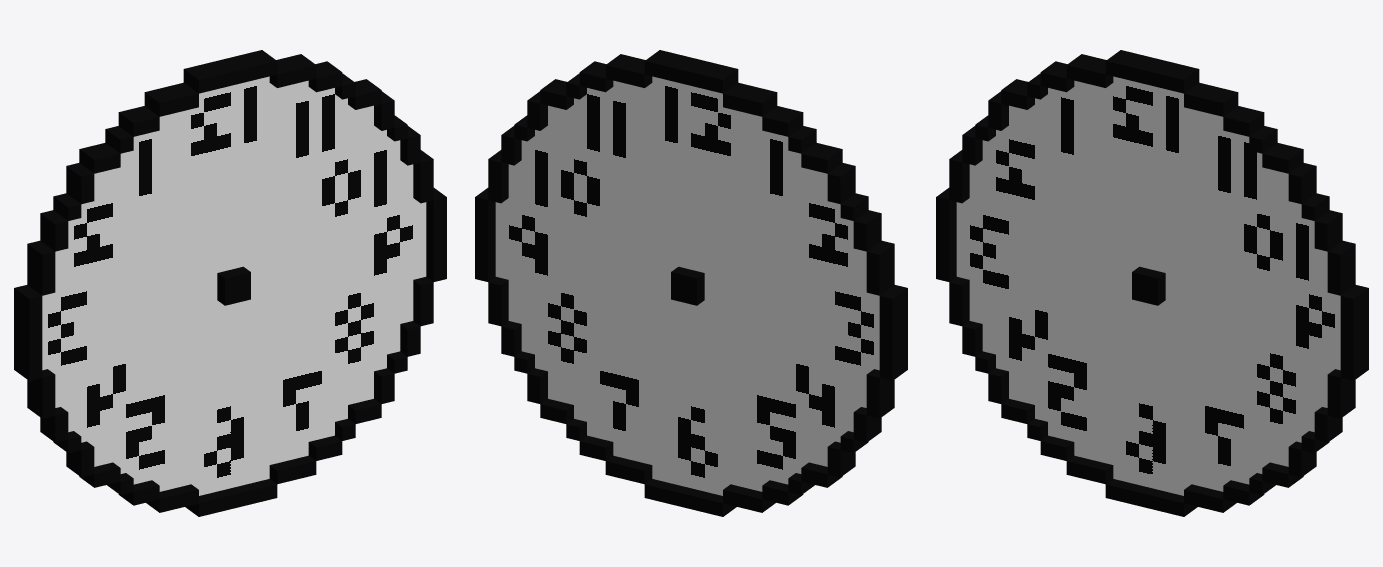
File: Clock.obj
The picture shows the model from 3 angles, left to right: view 1: azimuth 30°, elevation 25°; view 2: azimuth 150°, elevation 25°; view 3: azimuth 330°, elevation 25°; orthographic projection.
Parts seen in each view (by area): view 1: cube; view 2: cube; view 3: cube.
Part boxes in pixels (x1,y1,x2,y2): cube: (14, 50, 446, 516); cube: (475, 50, 907, 516); cube: (936, 50, 1368, 516).
Size of the model in its own units: 2 by 2 by 0.125.
1 material, 1 textured.
